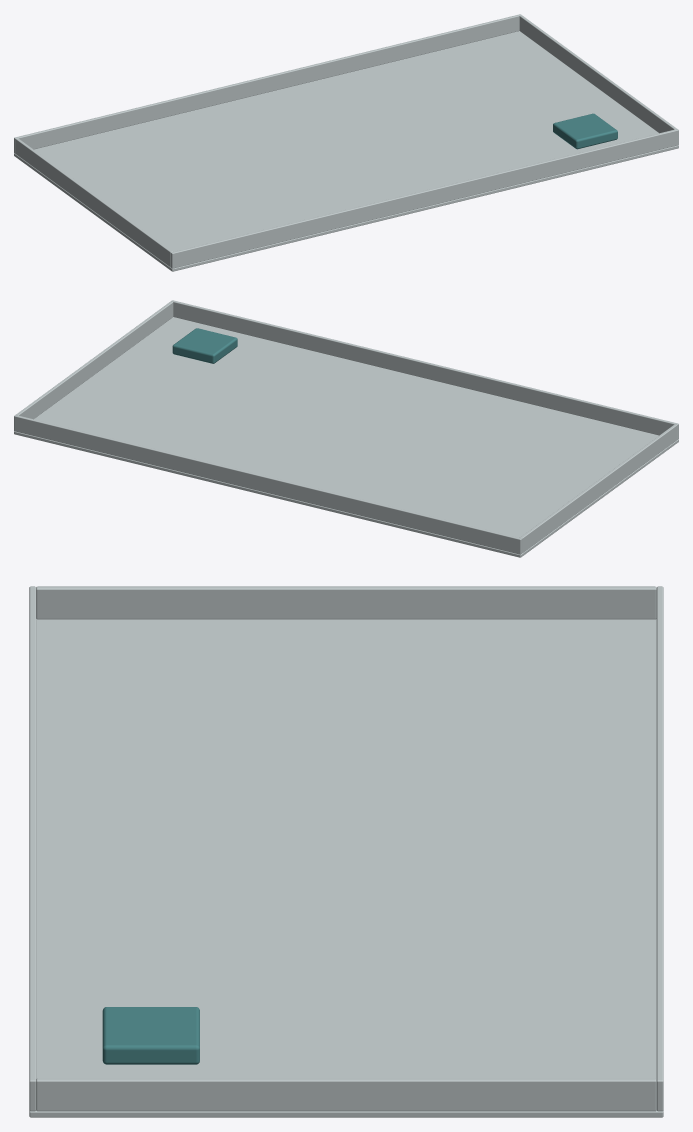
Rendered from mushroom-farm-and-grow-rooms-condensate-collection-tra-4e3731f3__30841.glb.
3 views of the same model, one above another, from view 1: azimuth 30°, elevation 25°; view 2: azimuth 150°, elevation 25°; view 3: azimuth 270°, elevation 25° (orthographic). The views are drawn at different scales.
Visible parts, largest first — view 1: condensate-collection-tray; view 2: condensate-collection-tray; view 3: condensate-collection-tray.
Boxes of the visible parts, x1,y1,x2,y2 form: condensate-collection-tray: (14, 14, 678, 271); condensate-collection-tray: (14, 300, 678, 557); condensate-collection-tray: (29, 586, 663, 1117).
Size of the model in its own units: 1.2 by 0.042 by 0.65.
